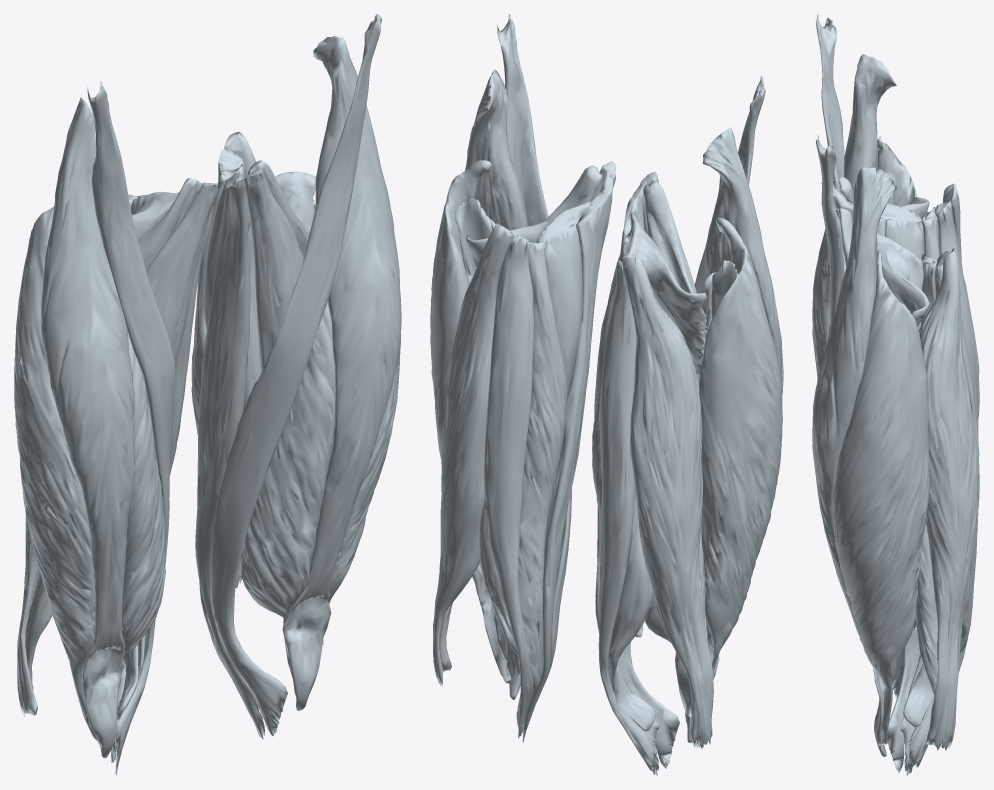
Rendered from cuisse.glb.
3 views of the same model, side by side, from view 1: azimuth 30°, elevation 25°; view 2: azimuth 150°, elevation 25°; view 3: azimuth 270°, elevation 25° (orthographic). The views are drawn at different scales.
Parts seen in each view (by area): view 1: cuisse; view 2: cuisse; view 3: cuisse.
Part boxes in pixels (x1=…): cuisse: x1=14, y1=14, x2=401, y2=775; cuisse: x1=430, y1=14, x2=783, y2=775; cuisse: x1=812, y1=14, x2=979, y2=775.
Bounding box in the file's own units: 0.318 × 0.6037 × 0.1369.
